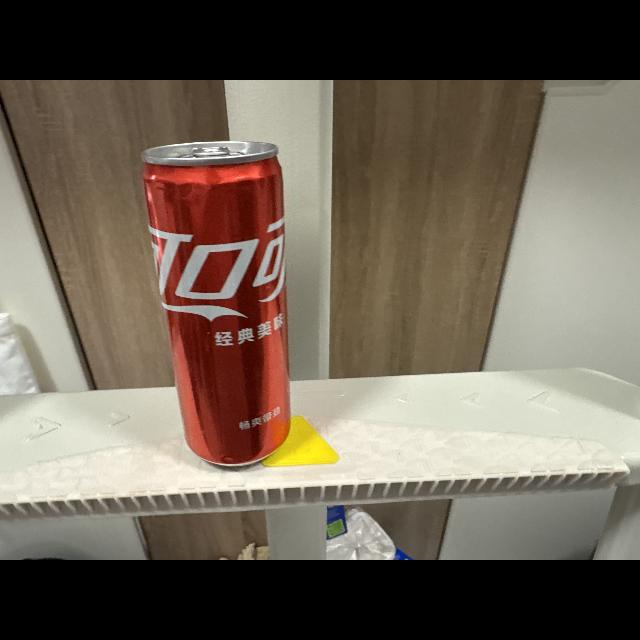Cola: (134, 130, 312, 478)
